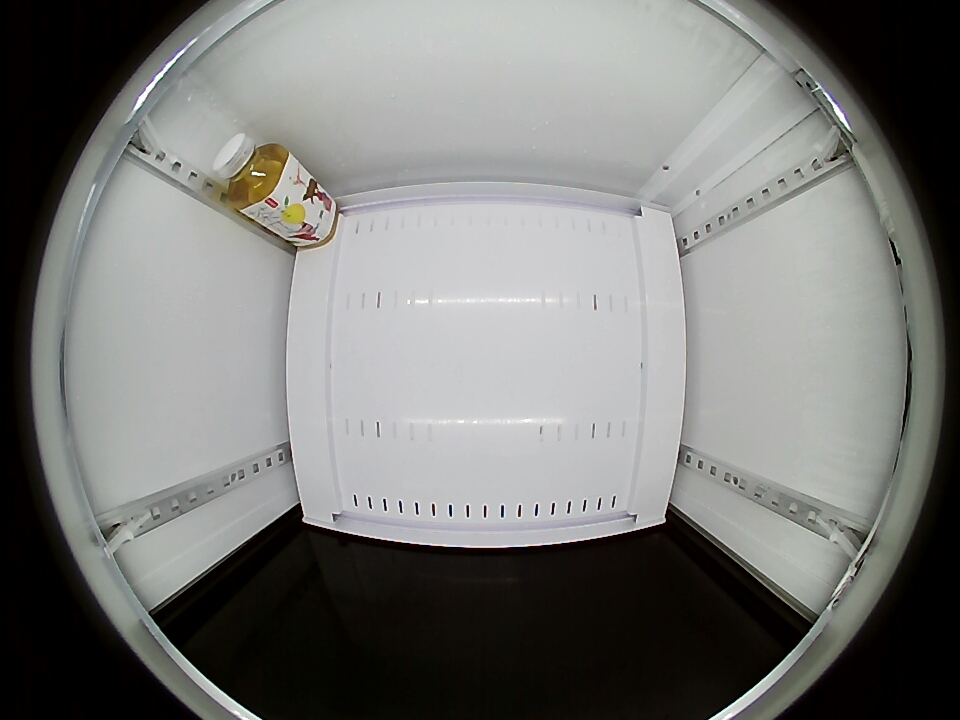chapai: (212, 134, 293, 214)
